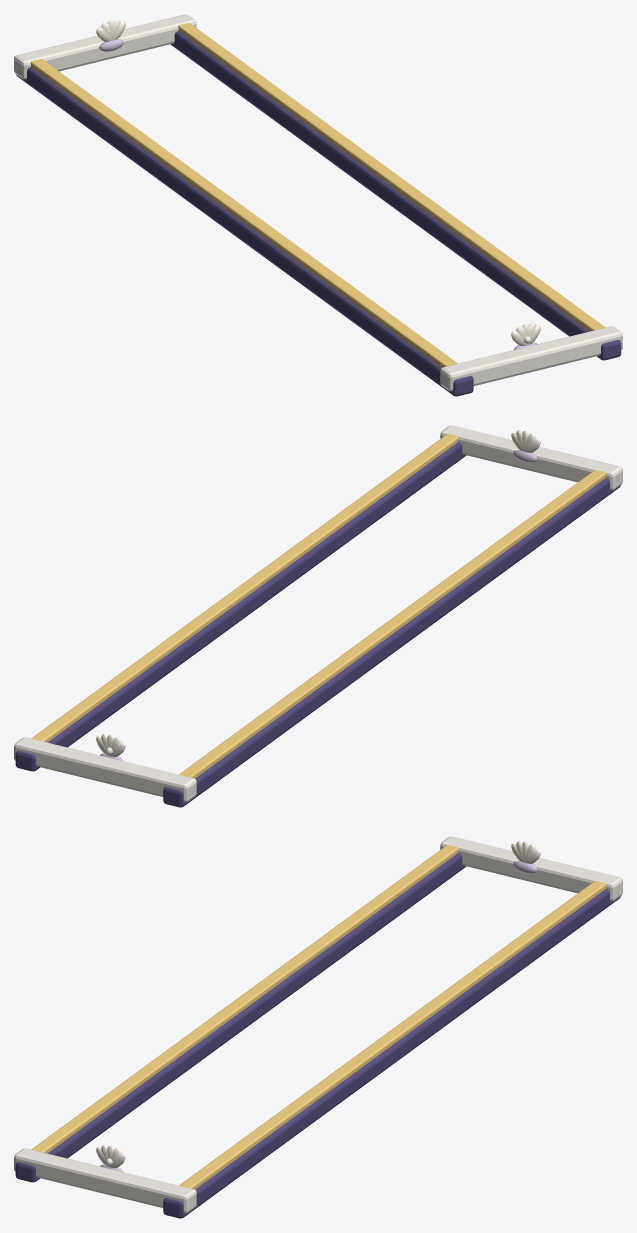
File: pearl_music_rail.glb
3 views of the same model, one above another, from view 1: azimuth 30°, elevation 25°; view 2: azimuth 150°, elevation 25°; view 3: azimuth 330°, elevation 25° (orthographic).
Visible parts, largest first — view 1: pearl_music_rail.001; view 2: pearl_music_rail.001; view 3: pearl_music_rail.001.
Boxes of the visible parts, x1,y1,x2,y2 form: pearl_music_rail.001: (14,14,622,396); pearl_music_rail.001: (14,425,622,807); pearl_music_rail.001: (14,836,622,1218).
Bounding box in the file's own units: 7.1 × 1.78 × 31.
